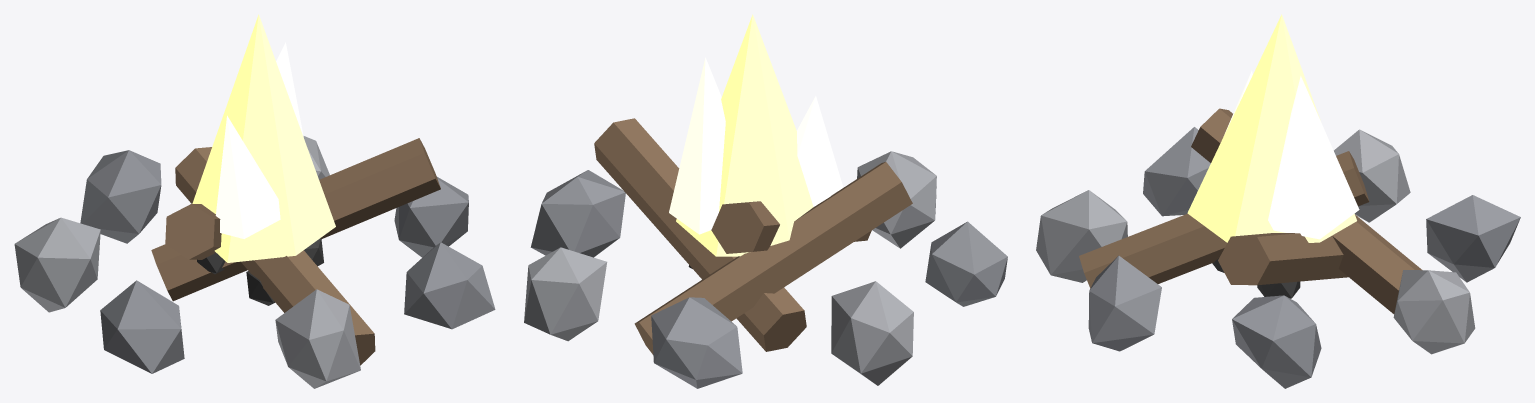
Rendered from Campfire.fbx.
3 views of the same model, side by side, from view 1: azimuth 30°, elevation 25°; view 2: azimuth 150°, elevation 25°; view 3: azimuth 270°, elevation 25° (orthographic). The views are drawn at different scales.
Parts seen in each view (by area): view 1: Campfire_fbx; view 2: Campfire_fbx; view 3: Campfire_fbx.
Part boxes in pixels (<box>): Campfire_fbx: <box>14,14,495,388</box>; Campfire_fbx: <box>524,14,1007,388</box>; Campfire_fbx: <box>1036,14,1520,388</box>.
Size of the model in its own units: 0.8302 by 0.5915 by 0.8685.
